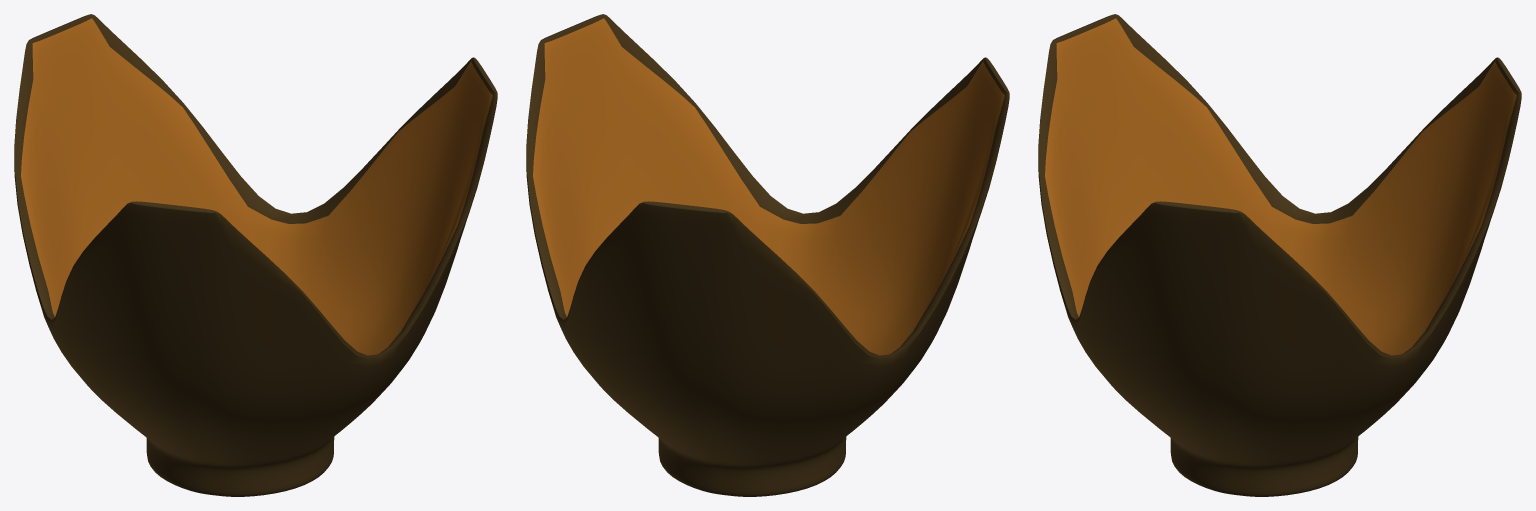
The model's file is eic0843.glb.
The picture shows the model from 3 angles, left to right: view 1: azimuth 30°, elevation 25°; view 2: azimuth 150°, elevation 25°; view 3: azimuth 270°, elevation 25°; orthographic projection.
Parts seen in each view (by area): view 1: Cylinder; view 2: Cylinder; view 3: Cylinder.
Boxes of the visible parts, x1=… form: Cylinder: x1=14, y1=14, x2=497, y2=496; Cylinder: x1=526, y1=14, x2=1009, y2=496; Cylinder: x1=1038, y1=14, x2=1521, y2=496.
Size of the model in its own units: 0.8525 by 0.6952 by 0.8525.
